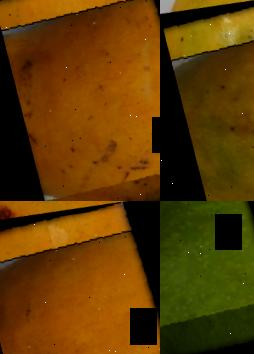PartiallyRipe: (160, 0, 254, 201)
Ripe: (0, 0, 160, 201), (0, 201, 160, 354)
Unripe: (160, 201, 254, 354)
